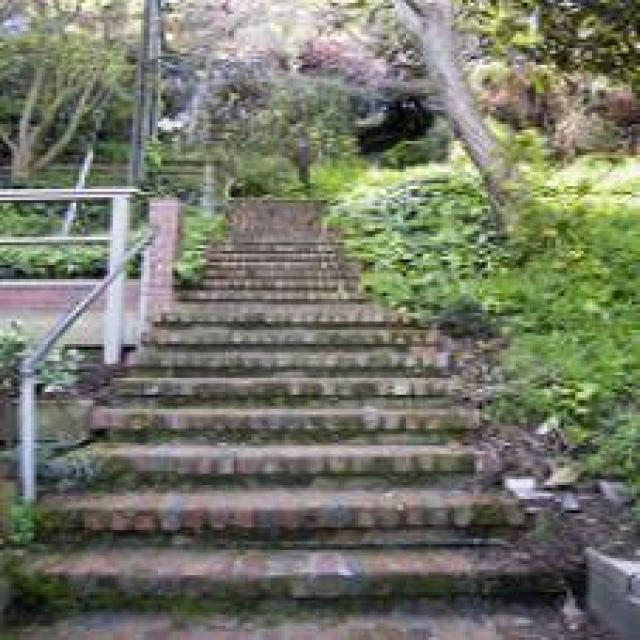stairs: (20, 192, 578, 610)
